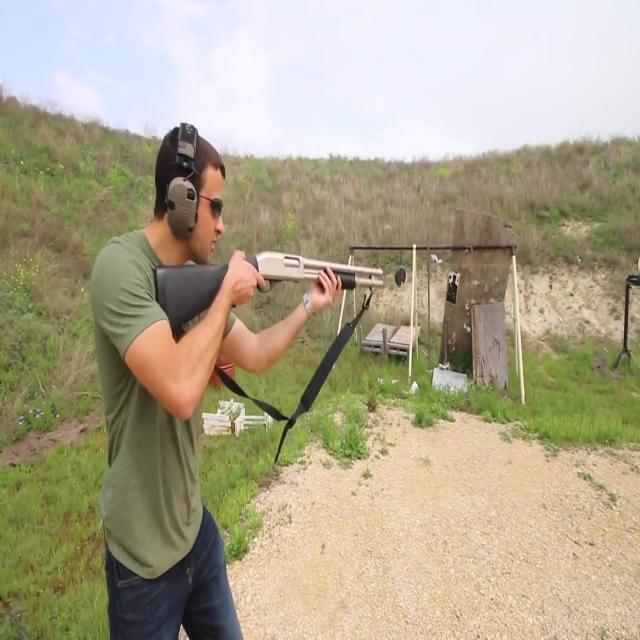Weapon: (132, 230, 398, 382)
